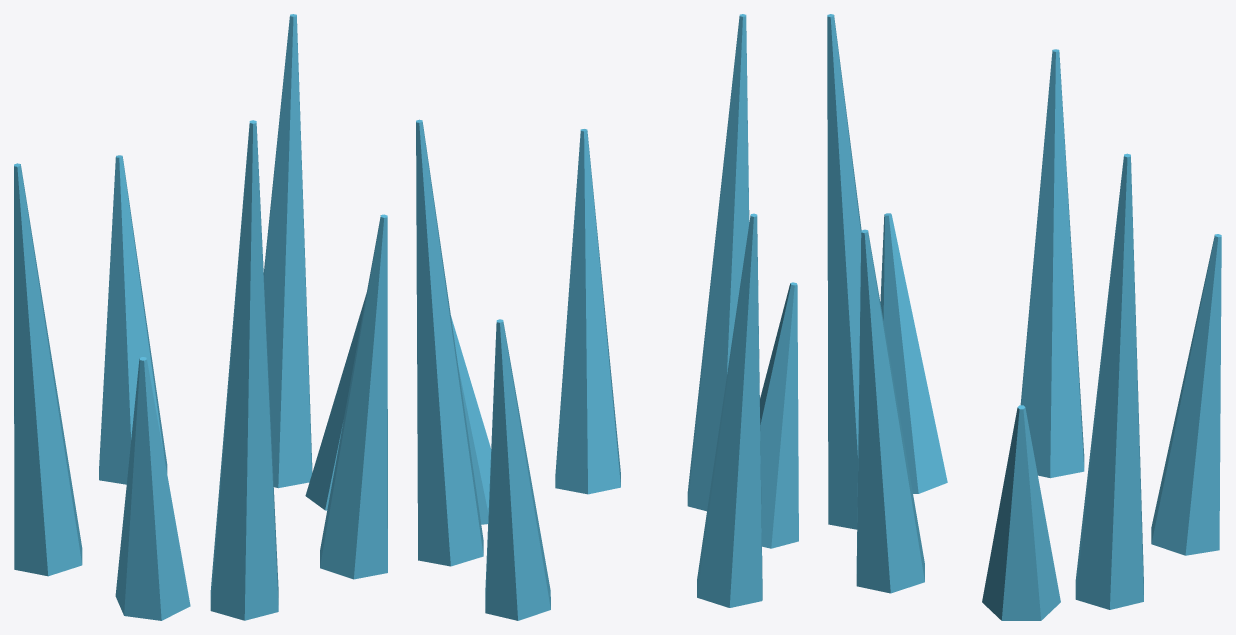
File: a3_detail.glb
3 renders of one model, left to right at view 1: azimuth 30°, elevation 25°; view 2: azimuth 150°, elevation 25°; view 3: azimuth 270°, elevation 25°, orthographic. The views are drawn at different scales.
Visible parts, largest first — view 1: Body.029; view 2: Body.029; view 3: Body.029.
Boxes of the visible parts, x1,y1,x2,y2 form: Body.029: (14, 14, 387, 620); Body.029: (416, 14, 798, 620); Body.029: (827, 14, 1221, 620).
Size of the model in its own units: 1.22 by 1.68 by 1.2.
